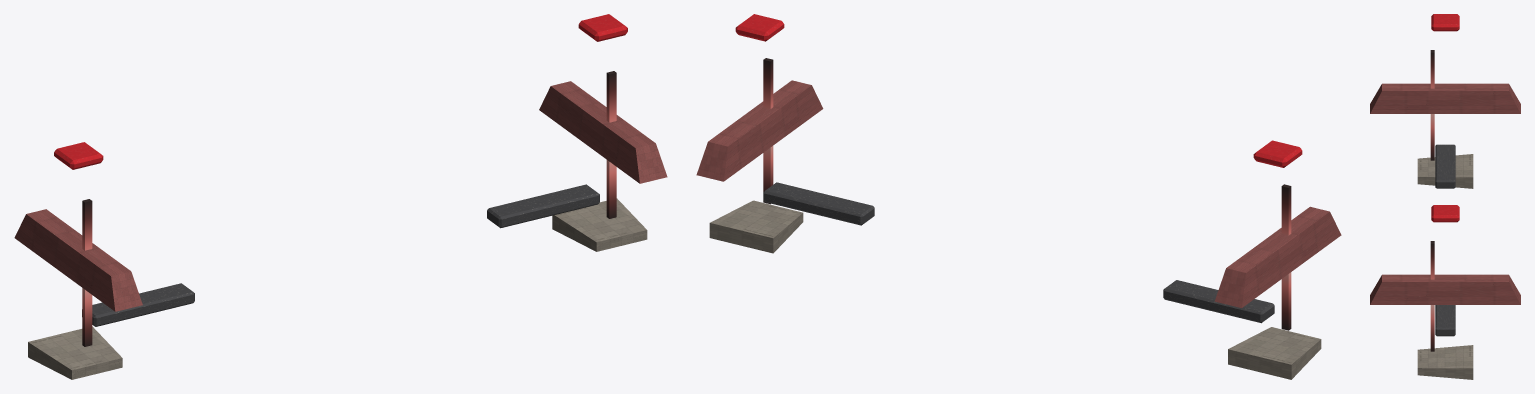
The model's file is apc_deployed_pylons.obj.
The picture shows the model from 3 angles, left to right: view 1: azimuth 30°, elevation 25°; view 2: azimuth 150°, elevation 25°; view 3: azimuth 270°, elevation 25°; orthographic projection. The views are drawn at different scales.
Visible parts, largest first — view 1: apc_deployed_pylons; view 2: apc_deployed_pylons; view 3: apc_deployed_pylons.
Boxes of the visible parts, bbox=[...] form: apc_deployed_pylons: bbox=[14, 14, 667, 379]; apc_deployed_pylons: bbox=[696, 14, 1341, 379]; apc_deployed_pylons: bbox=[1370, 14, 1520, 379].
Bounding box in the file's own units: 6.4 × 2.2 × 1.9.
Materials: 1 (1 with a texture image).
